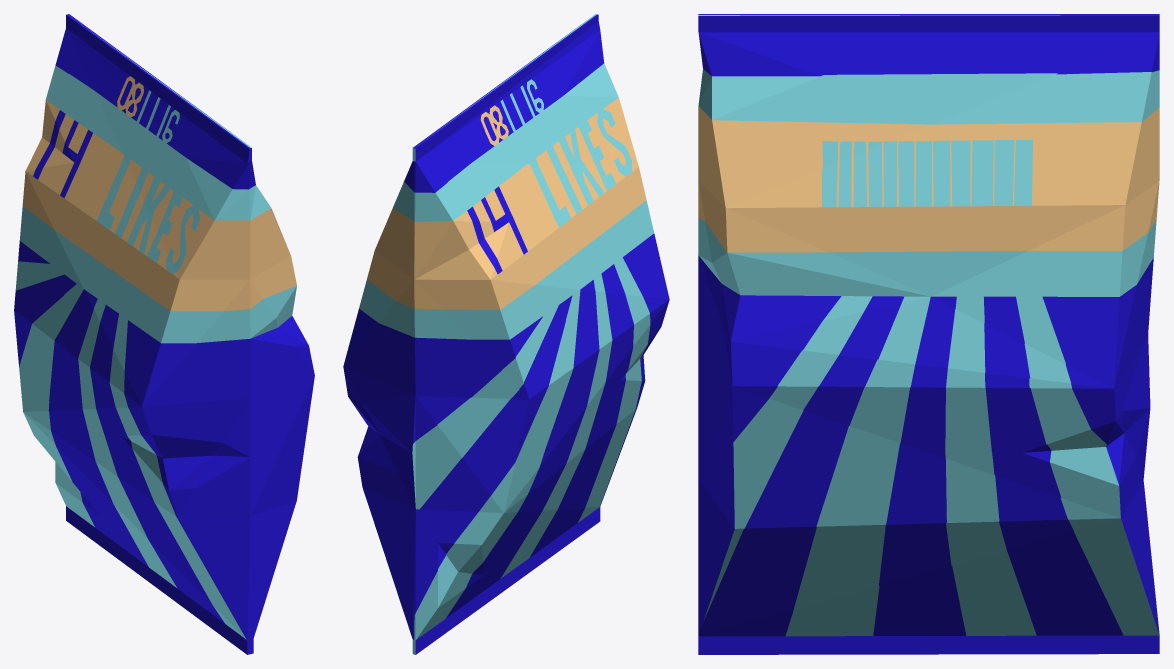
The model's file is Cheesecrisps.glb.
3 renders of one model, left to right at view 1: azimuth 30°, elevation 25°; view 2: azimuth 150°, elevation 25°; view 3: azimuth 270°, elevation 25°, orthographic. The views are drawn at different scales.
Parts seen in each view (by area): view 1: group478861069; view 2: group478861069; view 3: group478861069.
Boxes of the visible parts, left/top/right/bottom form: group478861069: left=14, top=14, right=314, bottom=654; group478861069: left=343, top=14, right=669, bottom=654; group478861069: left=698, top=14, right=1159, bottom=654.
Bounding box in the file's own units: 0.8384 × 2.26 × 1.48.
